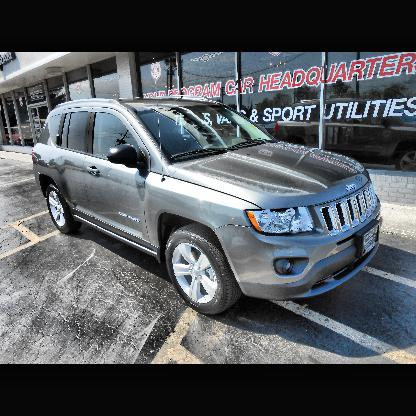Jeep Compass SUV 2012: (33, 96, 384, 315)
